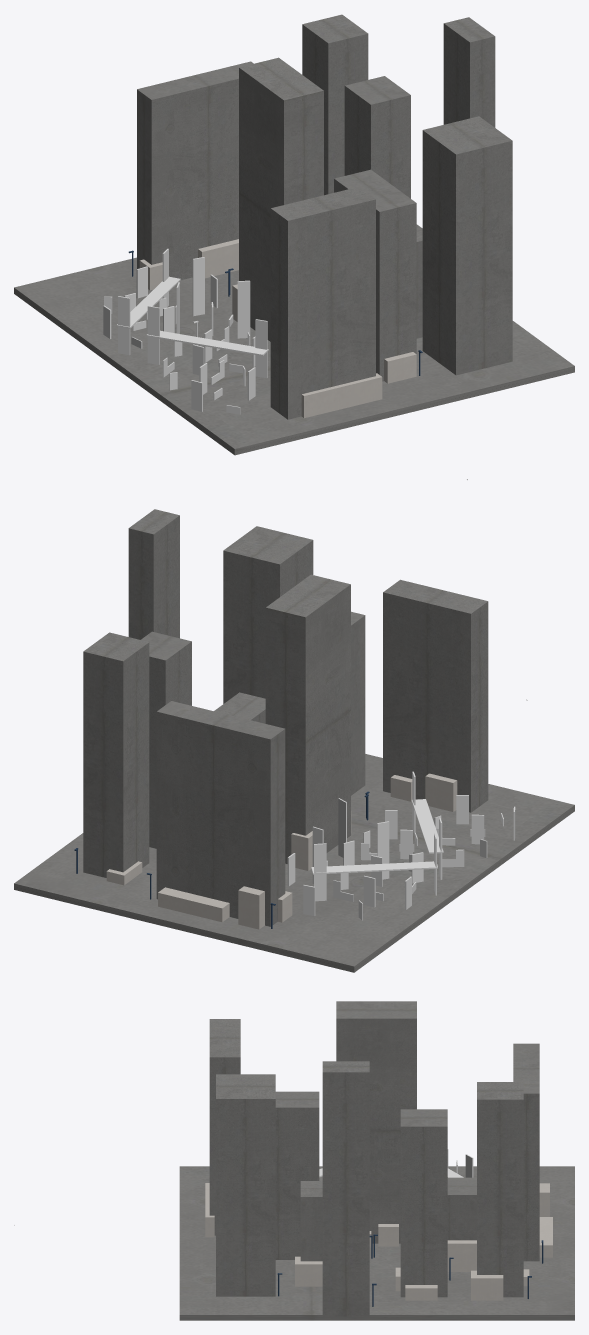
Rendered from map.glb.
3 views of the same model, one above another, from view 1: azimuth 30°, elevation 25°; view 2: azimuth 150°, elevation 25°; view 3: azimuth 270°, elevation 25° (orthographic). The views are drawn at different scales.
Visible parts, largest first — view 1: Cube.179, Cube.171, Cube.170, Cube.175, Cube.169, Cube.172, Cube.177, Cube.178, Cube.174, Cube.072, Cube.058, Cube.119 (+8 smaller); view 2: Cube.179, Cube.175, Cube.170, Cube.169, Cube.178, Cube.171, Cube.174, Cube.177, Cube.172, Cube.061, Cube.062, Cube.070 (+6 smaller); view 3: Cube.179, Cube.171, Cube.174, Cube.169, Cube.178, Cube.177, Cube.172, Cube.175, Cube.170, Cube.176, Cube.173, Cube.059 (+5 smaller).
Boxes of the visible parts, bbox=[...] form: Cube.179: bbox=[14, 257, 574, 455]; Cube.171: bbox=[422, 116, 512, 375]; Cube.170: bbox=[270, 187, 375, 419]; Cube.175: bbox=[137, 61, 253, 280]; Cube.169: bbox=[239, 57, 323, 341]; Cube.172: bbox=[334, 169, 416, 381]; Cube.177: bbox=[344, 76, 410, 198]; Cube.178: bbox=[302, 14, 368, 195]; Cube.174: bbox=[443, 17, 495, 127]; Cube.072: bbox=[301, 373, 382, 418]; Cube.058: bbox=[198, 239, 238, 278]; Cube.119: bbox=[146, 330, 268, 355]; Cube.179: bbox=[14, 754, 574, 972]; Cube.175: bbox=[156, 701, 285, 926]; Cube.170: bbox=[383, 579, 488, 812]; Cube.169: bbox=[265, 574, 350, 863]; Cube.178: bbox=[83, 632, 149, 877]; Cube.171: bbox=[223, 526, 313, 703]; Cube.174: bbox=[128, 509, 179, 639]; Cube.177: bbox=[141, 631, 191, 848]; Cube.172: bbox=[351, 611, 365, 795]; Cube.061: bbox=[158, 887, 229, 922]; Cube.062: bbox=[238, 886, 264, 929]; Cube.070: bbox=[425, 773, 457, 811]; Cube.179: bbox=[179, 1166, 574, 1320]; Cube.171: bbox=[216, 1074, 275, 1296]; Cube.174: bbox=[322, 1061, 369, 1316]; Cube.169: bbox=[336, 1001, 416, 1243]; Cube.178: bbox=[477, 1082, 523, 1297]; Cube.177: bbox=[400, 1109, 447, 1297]; Cube.172: bbox=[275, 1091, 319, 1259]; Cube.175: bbox=[513, 1043, 539, 1261]; Cube.170: bbox=[209, 1019, 240, 1235]; Cube.176: bbox=[447, 1177, 476, 1240]; Cube.173: bbox=[300, 1181, 322, 1261]; Cube.059: bbox=[447, 1240, 476, 1271].
Bounding box in the file's own units: 134 × 111 × 213.
Materials: 3 (2 with a texture image).
